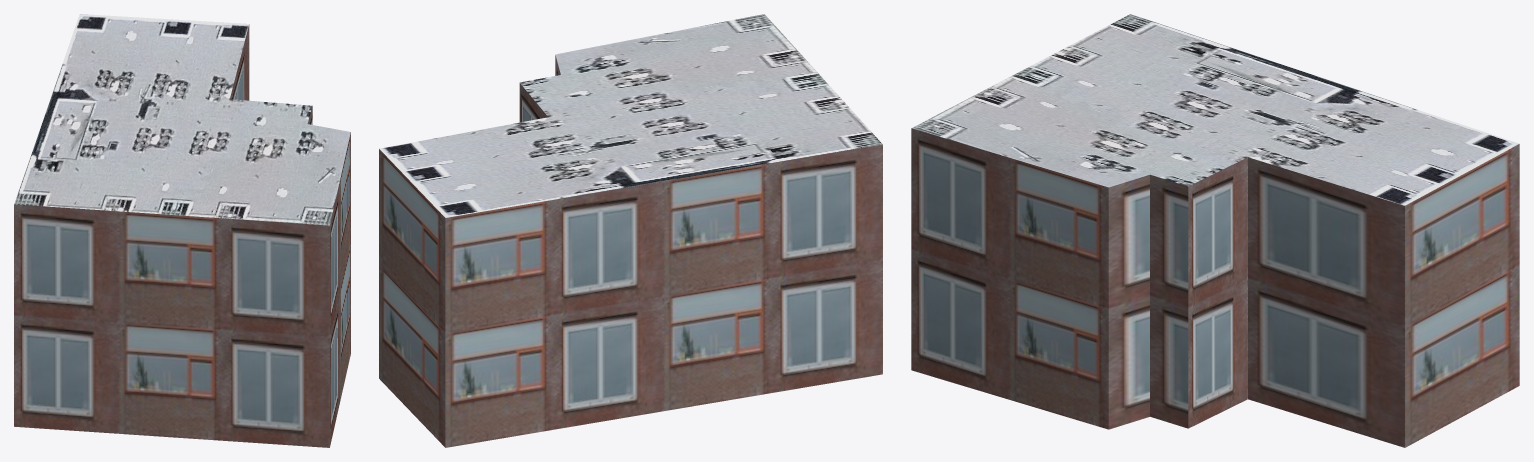
File: ResTex__4323.fbx
3 renders of one model, left to right at view 1: azimuth 30°, elevation 25°; view 2: azimuth 150°, elevation 25°; view 3: azimuth 270°, elevation 25°, orthographic. The views are drawn at different scales.
Visible parts, largest first — view 1: CityEngineMaterial_19_m, CityEngineMaterial_15_m; view 2: CityEngineMaterial_19_m, CityEngineMaterial_15_m; view 3: CityEngineMaterial_19_m, CityEngineMaterial_15_m.
Boxes of the visible parts, left/top/right/bottom form: CityEngineMaterial_19_m: left=14, top=24, right=350, bottom=447; CityEngineMaterial_15_m: left=14, top=14, right=350, bottom=225; CityEngineMaterial_19_m: left=379, top=55, right=882, bottom=447; CityEngineMaterial_15_m: left=379, top=14, right=882, bottom=217; CityEngineMaterial_19_m: left=911, top=128, right=1519, bottom=447; CityEngineMaterial_15_m: left=912, top=14, right=1519, bottom=205.
Size of the model in its own units: 10.2 by 6 by 13.66.
2 materials, 2 textured.
